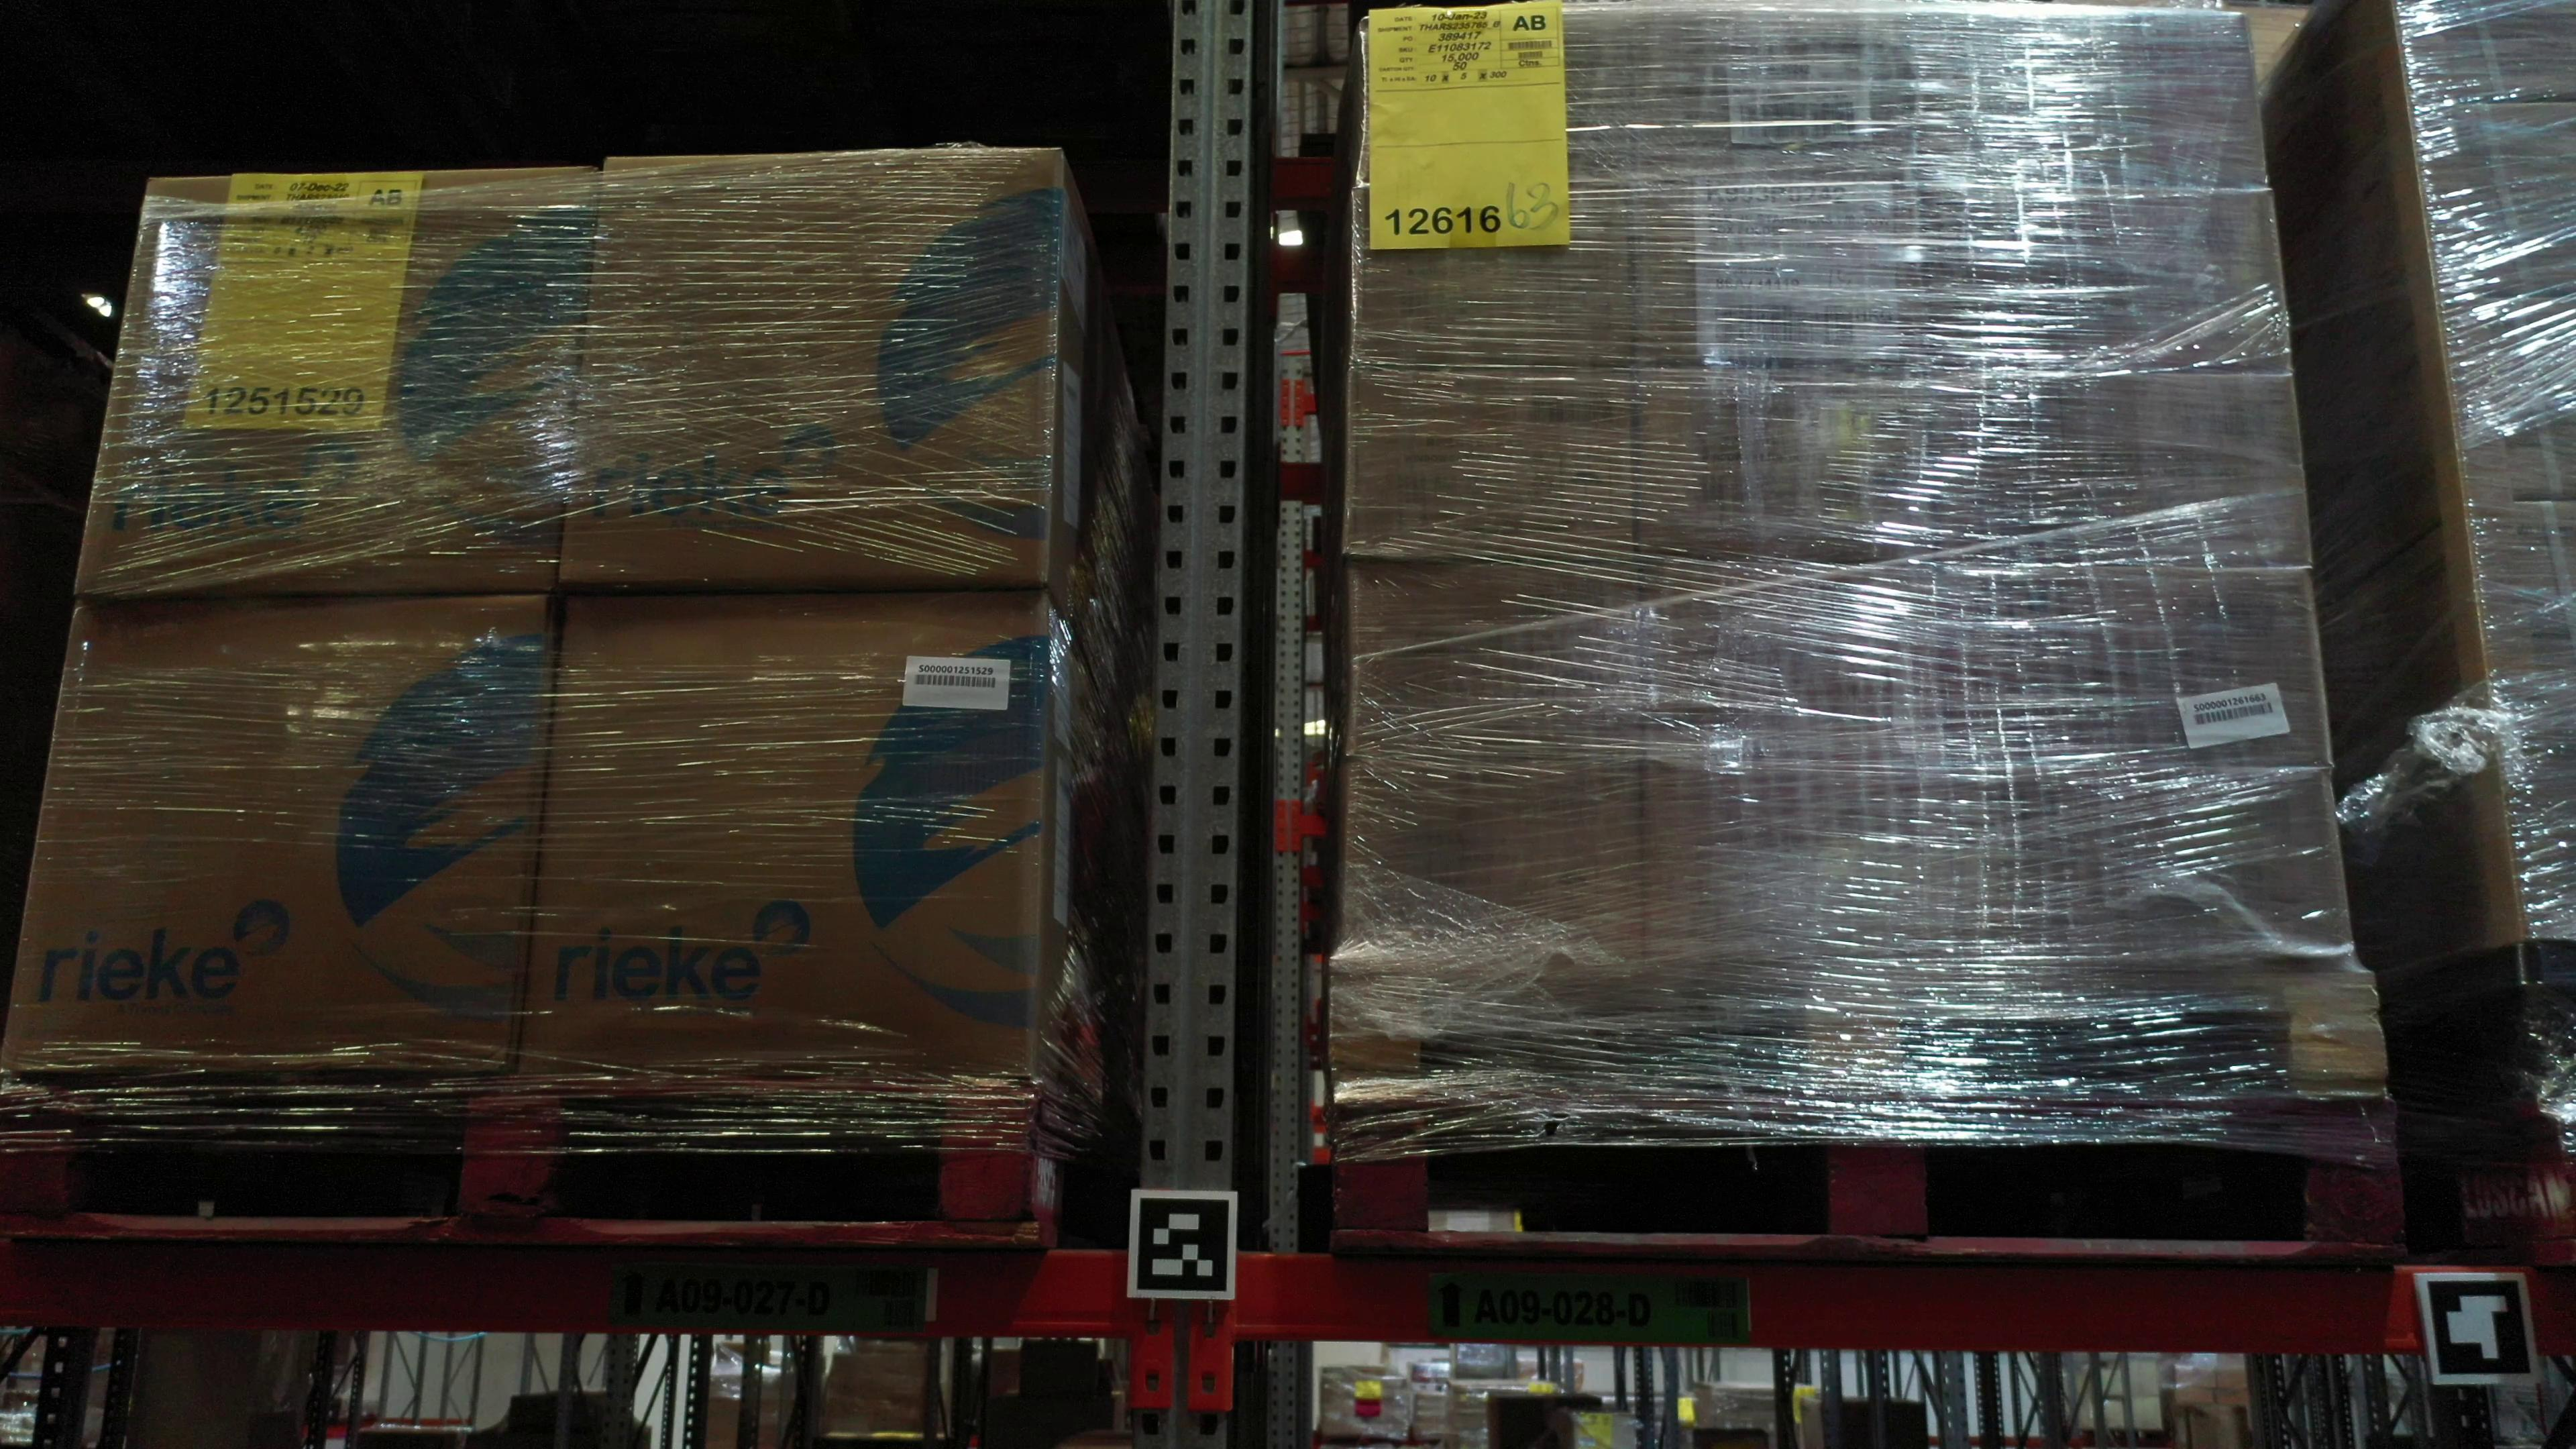-: (0, 587, 559, 1076), (517, 584, 1051, 1083), (71, 163, 603, 600), (561, 143, 1062, 593), (1943, 764, 2353, 982), (1937, 566, 2332, 771), (1930, 364, 2311, 566), (1918, 180, 2291, 375), (1341, 755, 1645, 984), (1642, 763, 1946, 982), (1640, 556, 1941, 768), (1635, 363, 1937, 566), (1348, 556, 1645, 763), (1343, 357, 1640, 563), (1633, 180, 1925, 375), (1348, 186, 1637, 366), (2415, 103, 2576, 295), (2438, 288, 2576, 501), (2472, 497, 2574, 740), (2505, 738, 2576, 938)
